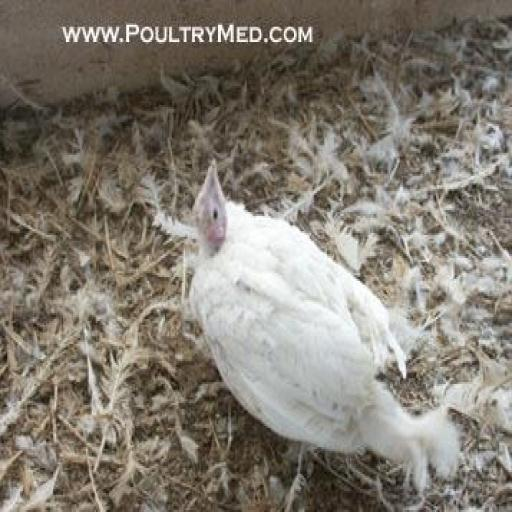disease: (189, 161, 227, 243)
